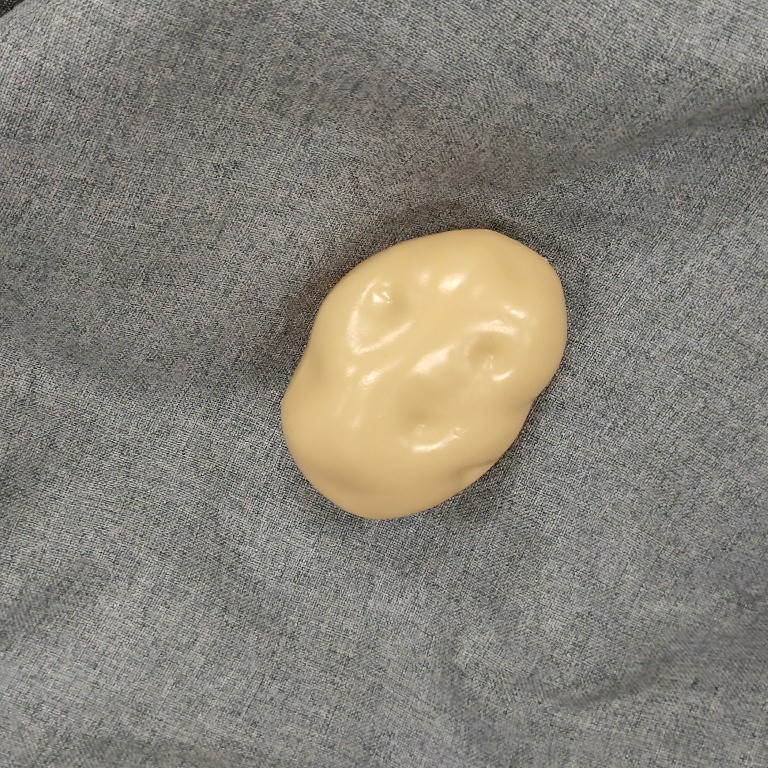fruit_potato: (272, 222, 568, 527)
